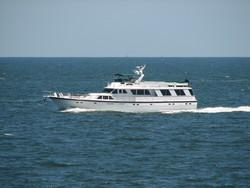yacht: (42, 62, 201, 112)
